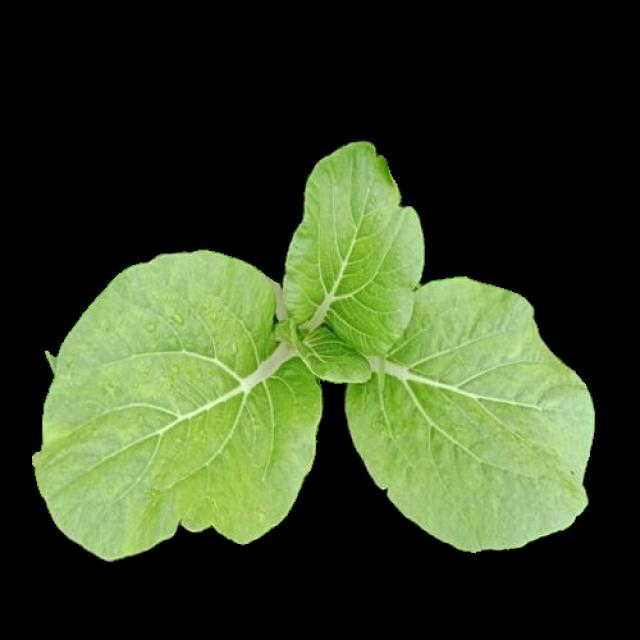not-mature: (32, 142, 596, 559)
unhealthy: (45, 250, 319, 550)
